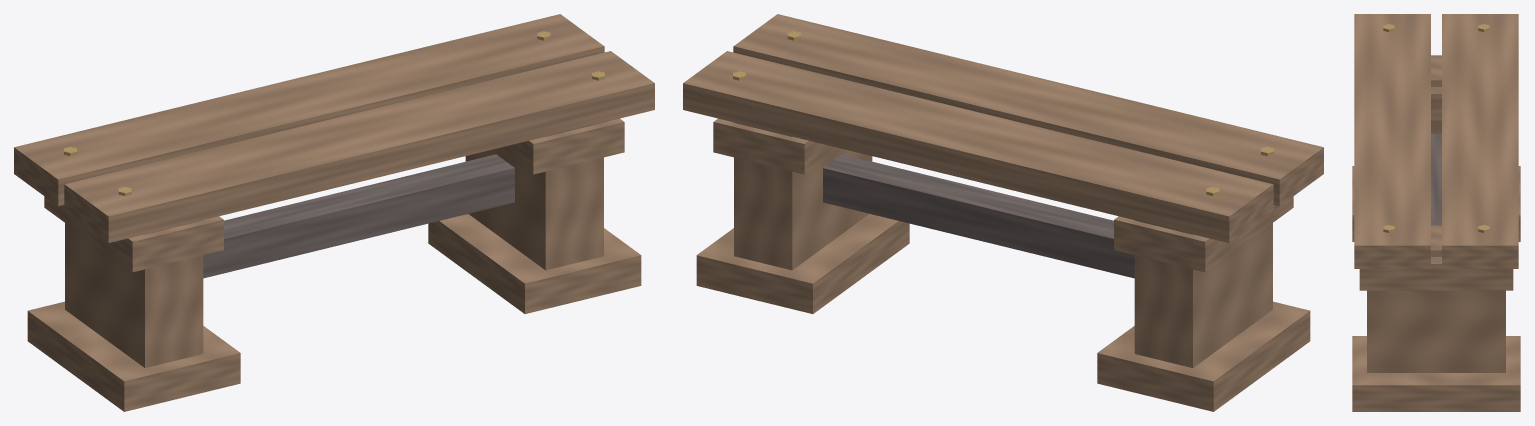
Rendered from lantern-watch-guardroom-bench__89.glb.
3 renders of one model, left to right at view 1: azimuth 30°, elevation 25°; view 2: azimuth 150°, elevation 25°; view 3: azimuth 270°, elevation 25°, orthographic. The views are drawn at different scales.
Visible parts, largest first — view 1: lantern-watch-guard-bench; view 2: lantern-watch-guard-bench; view 3: lantern-watch-guard-bench.
Part boxes in pixels (<box>): lantern-watch-guard-bench: <box>14,14,654,411</box>; lantern-watch-guard-bench: <box>683,14,1323,411</box>; lantern-watch-guard-bench: <box>1352,14,1520,411</box>.
Bounding box in the file's own units: 1.5 × 0.528 × 0.46.
3 materials, 3 textured.
